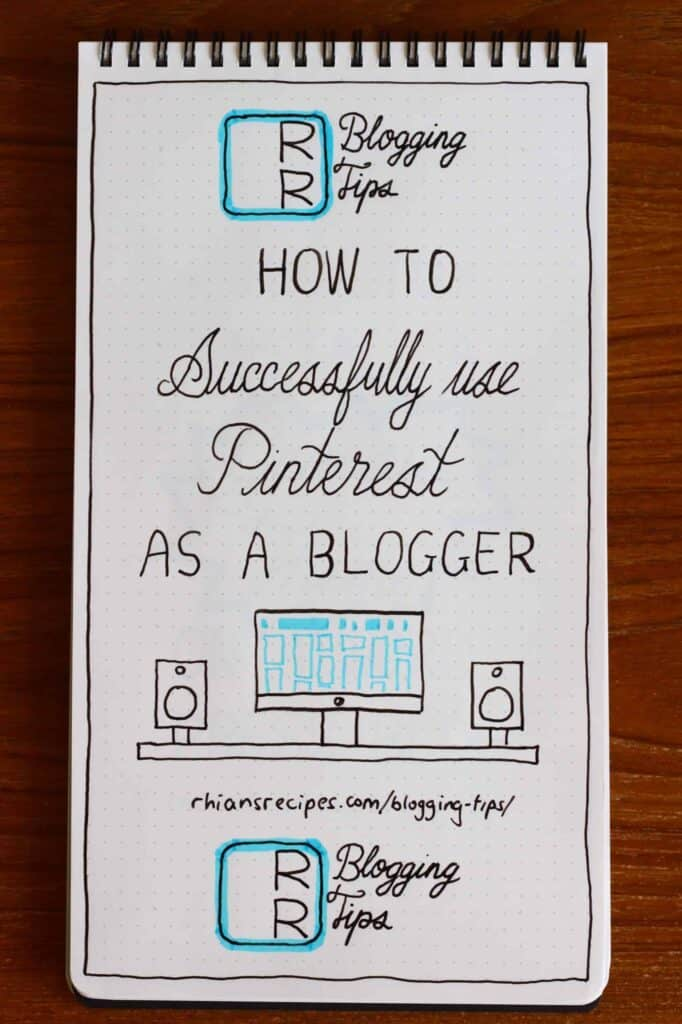page: (75, 79, 601, 993)
